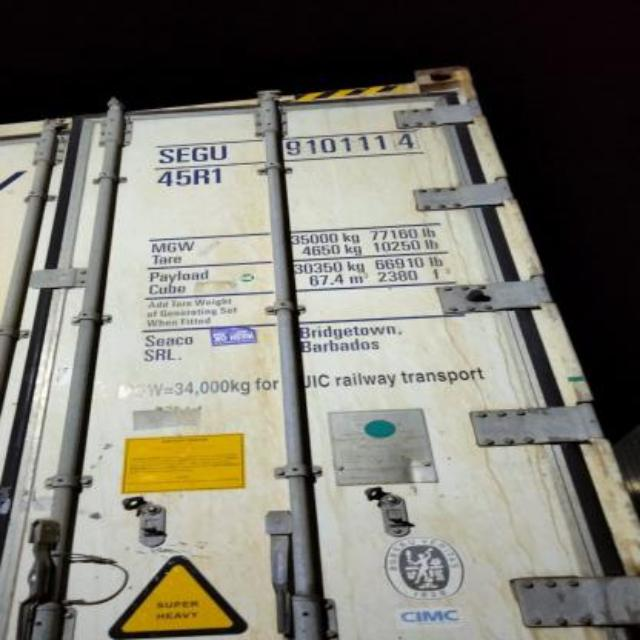0: (318, 133, 339, 157)
1: (303, 134, 321, 156), (339, 134, 357, 156), (356, 133, 372, 153), (372, 132, 388, 152)
4: (394, 130, 421, 154)
9: (283, 137, 301, 157)
E: (174, 144, 190, 166)
G: (191, 138, 209, 166)
S: (156, 144, 174, 168)
U: (207, 142, 231, 162)
